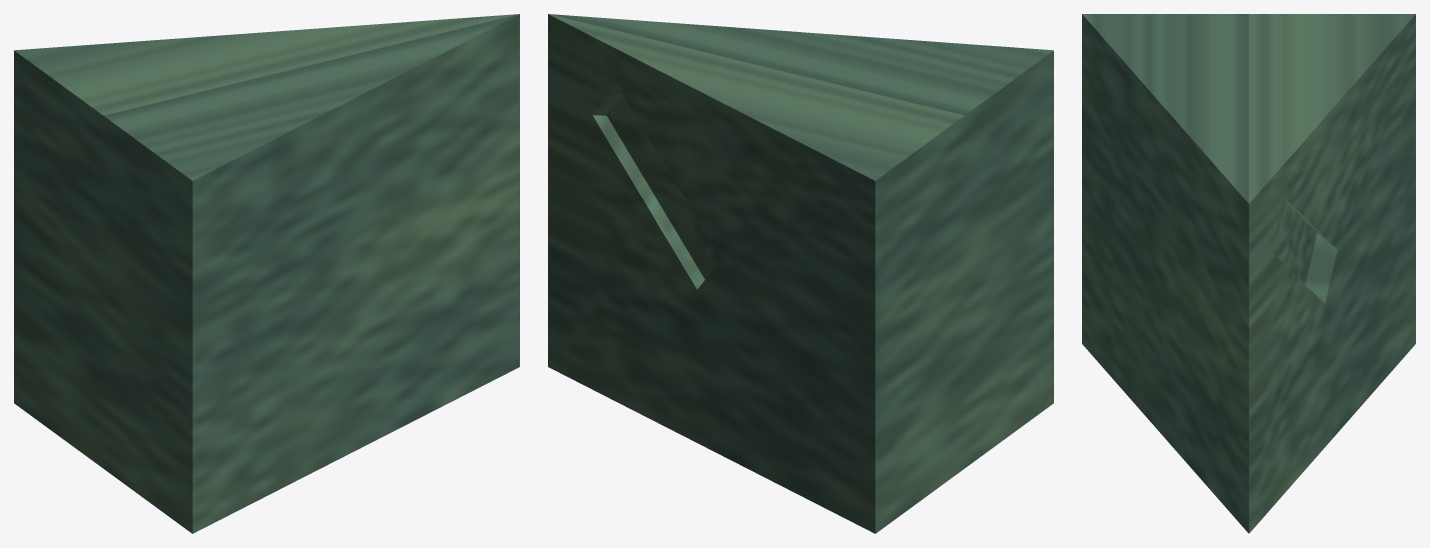
3 renders of one model, left to right at view 1: azimuth 30°, elevation 25°; view 2: azimuth 150°, elevation 25°; view 3: azimuth 270°, elevation 25°, orthographic. The views are drawn at different scales.
Visible parts, largest first — view 1: geometry_0; view 2: geometry_0; view 3: geometry_0.
Boxes of the visible parts, x1,y1,x2,y2 form: geometry_0: (14, 14, 519, 533); geometry_0: (548, 14, 1053, 533); geometry_0: (1082, 14, 1415, 533).
Size of the model in its own units: 2.08 by 1.68 by 1.54.
1 material, 1 textured.
